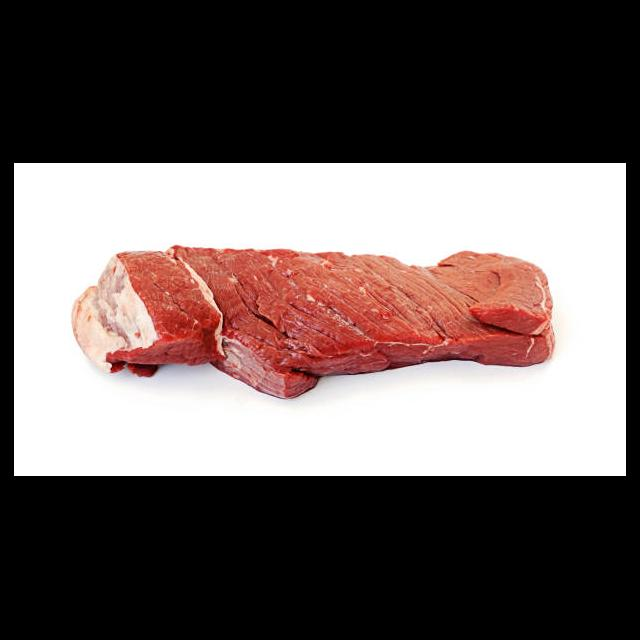beef: (71, 240, 557, 400)
